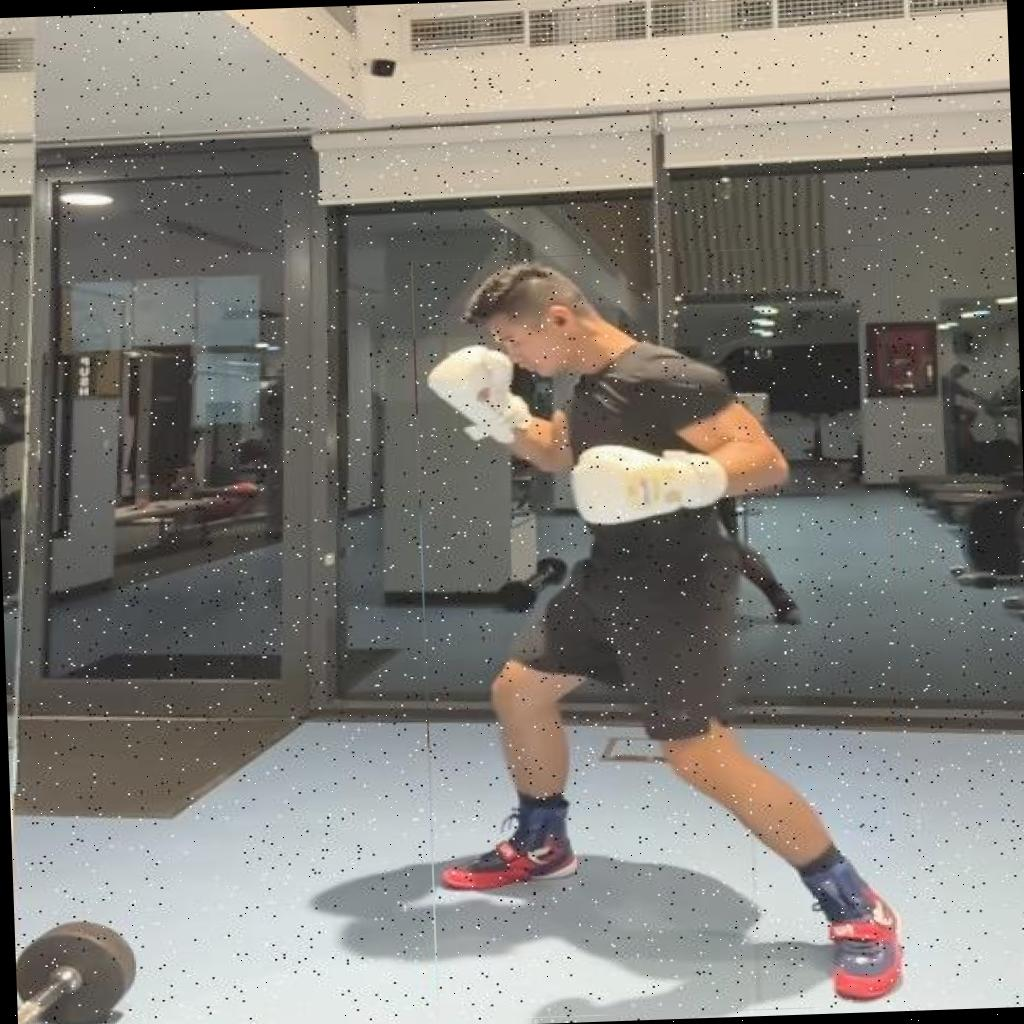hook: (411, 244, 910, 1022)
